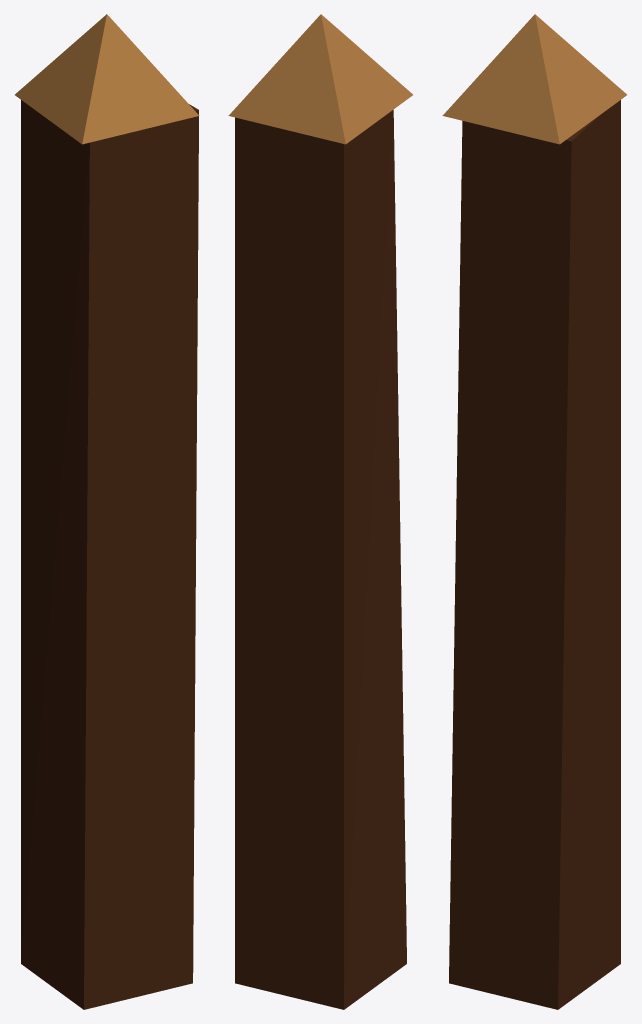
Rendered from fence_post.obj.
3 renders of one model, left to right at view 1: azimuth 30°, elevation 25°; view 2: azimuth 150°, elevation 25°; view 3: azimuth 330°, elevation 25°, orthographic.
Visible parts, largest first — view 1: post_shaft, post_cap; view 2: post_shaft, post_cap; view 3: post_shaft, post_cap.
Boxes of the visible parts, bbox=[...] form: post_shaft: bbox=[21, 100, 198, 1009]; post_cap: bbox=[15, 14, 199, 144]; post_shaft: bbox=[235, 109, 406, 1009]; post_cap: bbox=[228, 14, 412, 144]; post_shaft: bbox=[449, 100, 620, 1009]; post_cap: bbox=[442, 14, 626, 144].
Size of the model in its own units: 0.2255 by 1.68 by 0.215.
